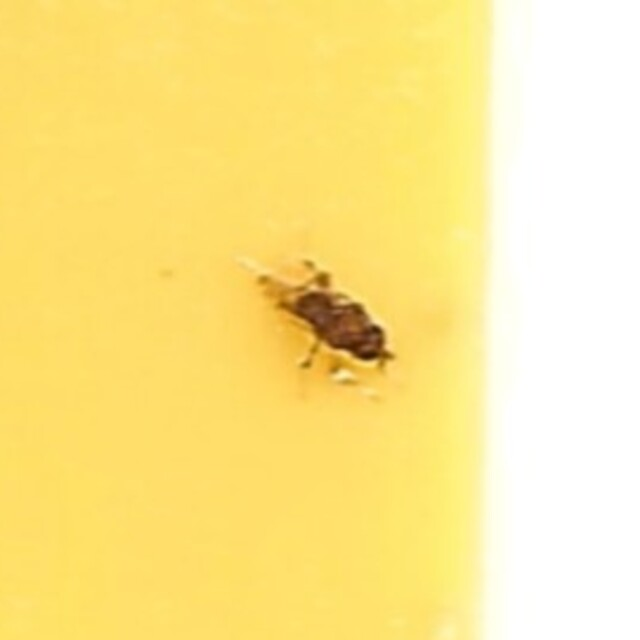Brachycera: (236, 231, 404, 409)
